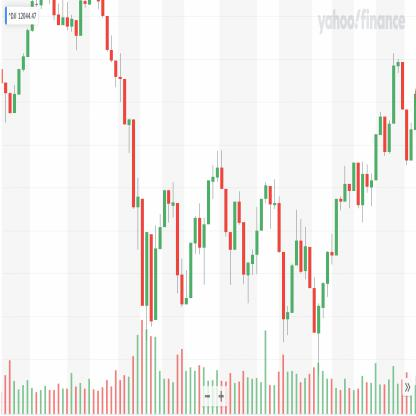Bearish: Evening Star Doji: (391, 49, 405, 124)
Bullish: Inverted Hammer: (179, 240, 193, 311)
